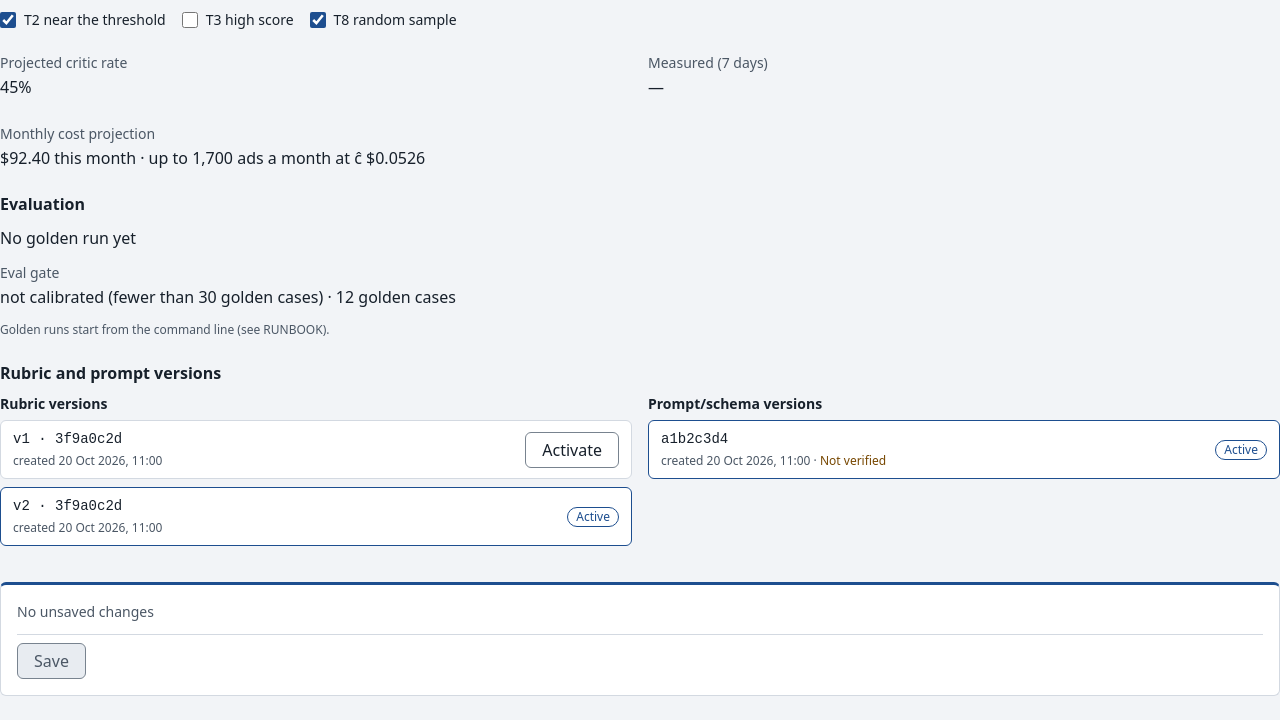
Test: VersionsPanel › an older inactive version shows no notice but can be activated
The width and height of the screenshot is (1280, 720).
(page scrolled)
Click the button with aria-label "Activate rubric v1": click(572, 450) x1=525 y1=432 x2=619 y2=468
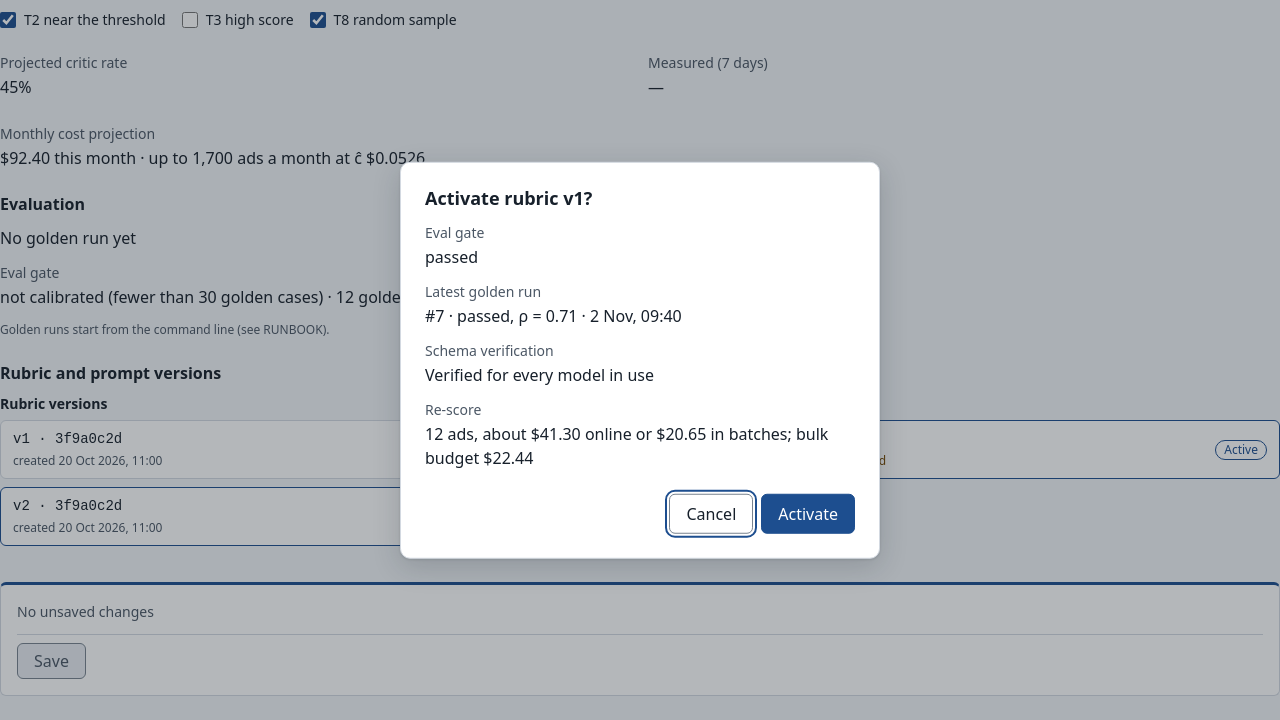
Now the dialog "Activate rubric v1?" shows "12 ads, about $41.30 online", box x1=425 y1=422 x2=828 y2=468
